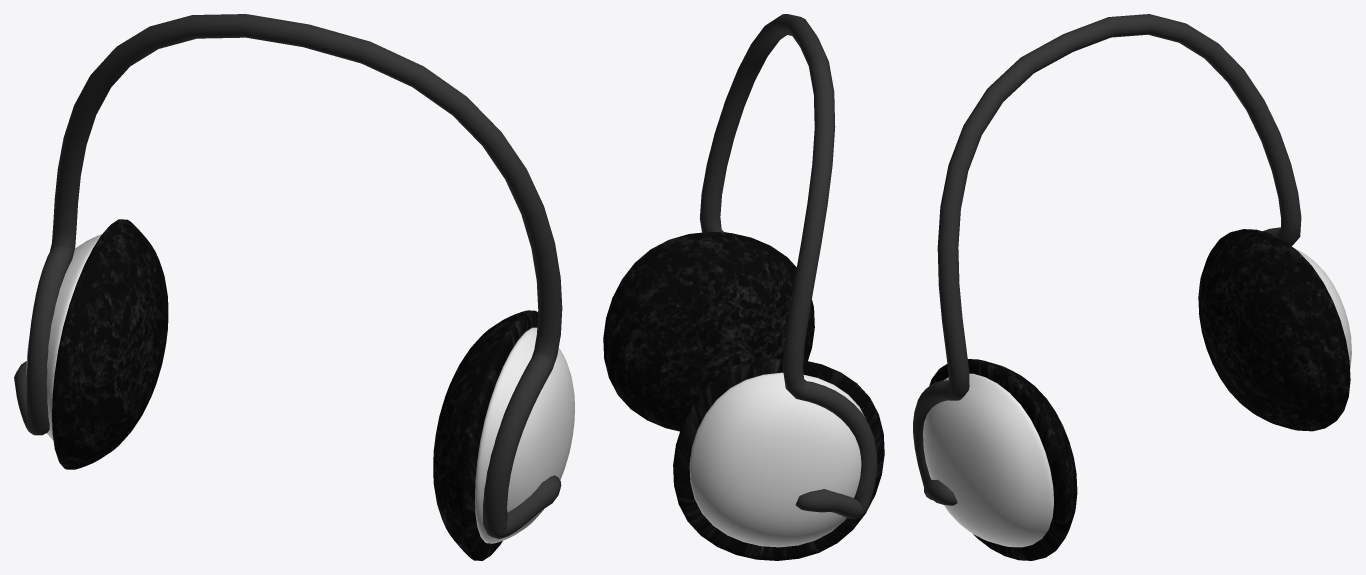
File: Headphones.glb
The picture shows the model from 3 angles, left to right: view 1: azimuth 30°, elevation 25°; view 2: azimuth 150°, elevation 25°; view 3: azimuth 270°, elevation 25°; orthographic projection. The views are drawn at different scales.
Visible parts, largest first — view 1: BézierCurve; view 2: BézierCurve; view 3: BézierCurve.
Boxes of the visible parts, x1,y1,x2,y2 form: BézierCurve: [14, 14, 574, 560]; BézierCurve: [603, 14, 884, 560]; BézierCurve: [913, 14, 1351, 560].
Bounding box in the file's own units: 3.99 × 4.85 × 4.21.
3 materials, 1 textured.
